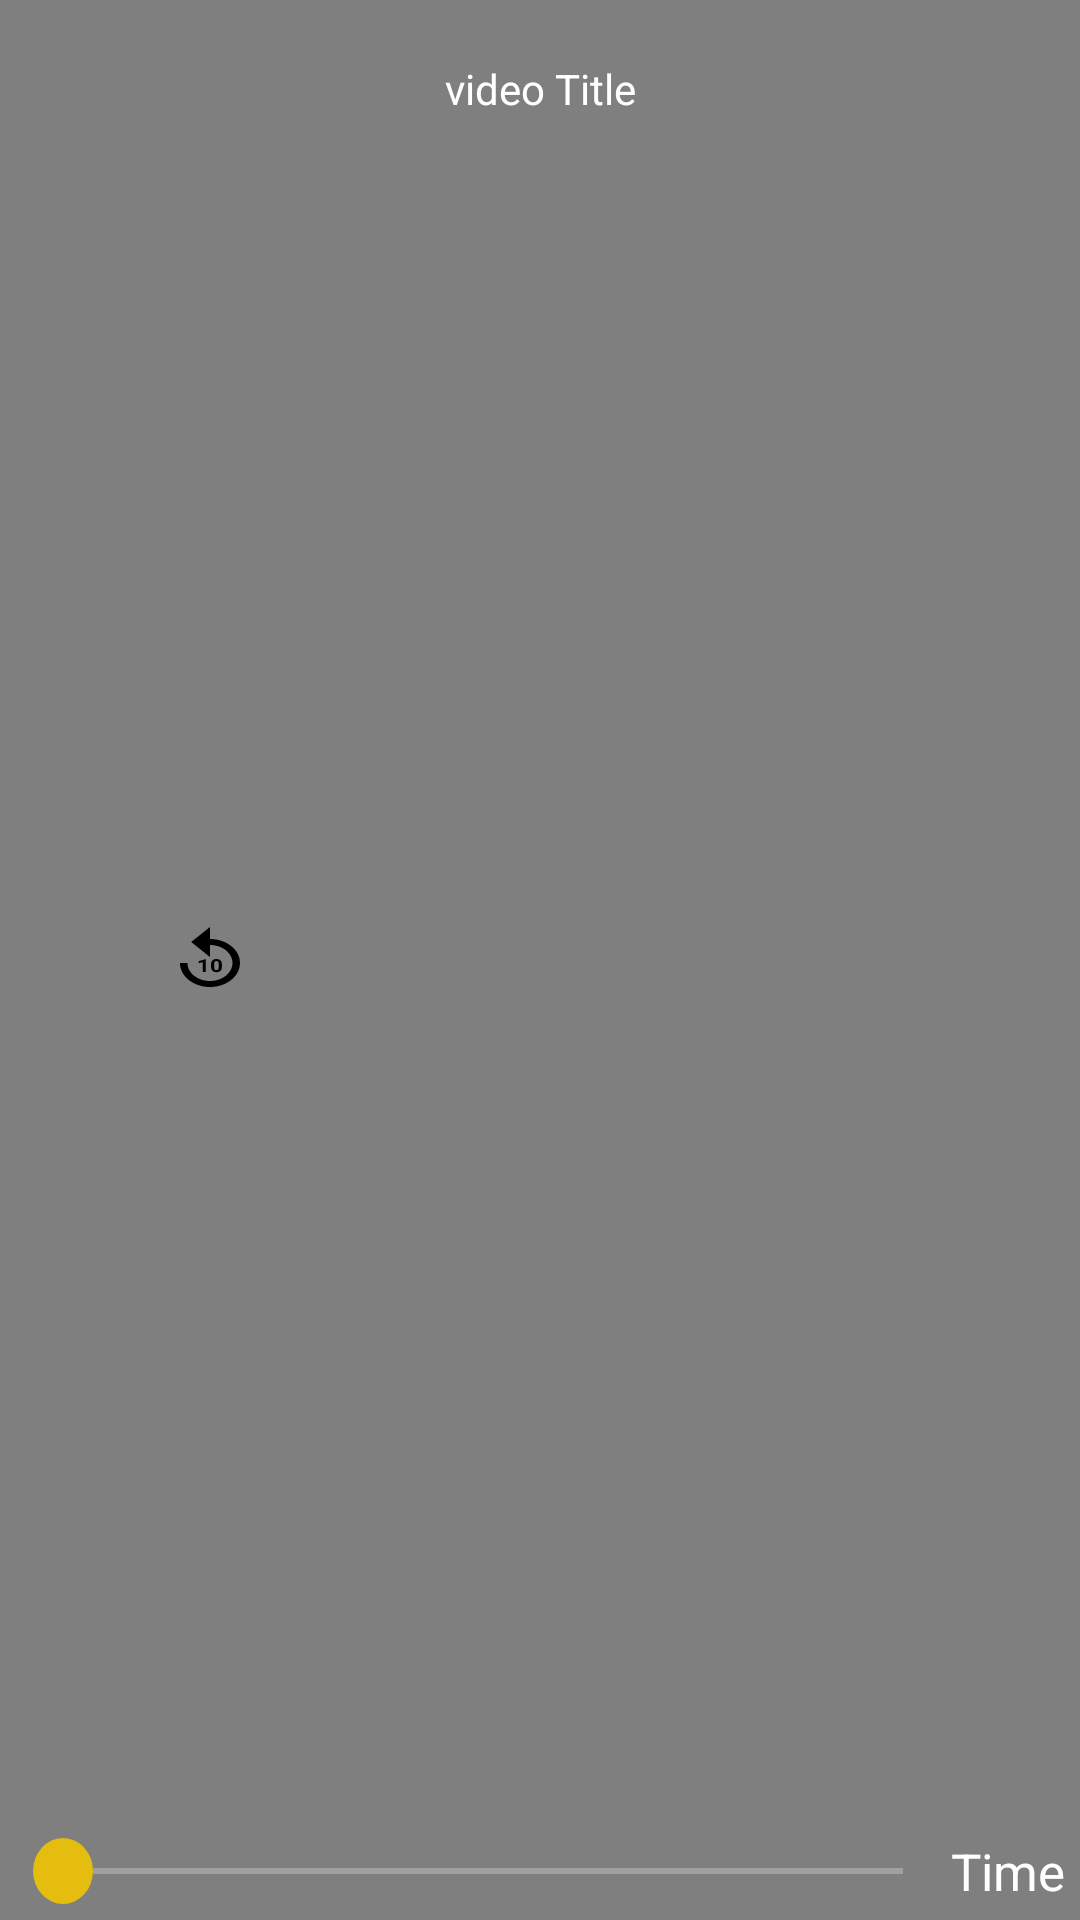

Where icons sit on this 1080x1920 app screen, as (x1, y1, x2, y2):
replay: (180, 927, 240, 987)
